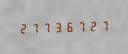seven: (41, 20, 52, 34), (77, 19, 88, 33), (101, 18, 112, 32), (29, 21, 40, 34)
six: (65, 19, 76, 33)
three: (53, 20, 64, 33)
two: (17, 21, 28, 35), (89, 19, 100, 32)
